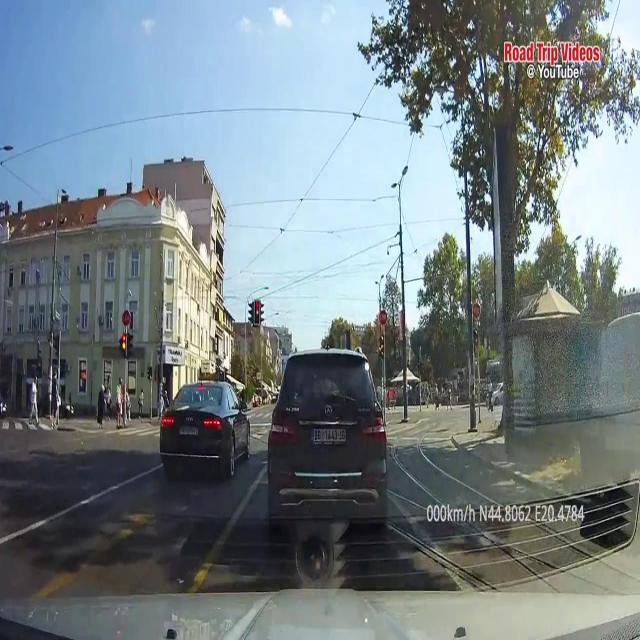License-plate: (309, 425, 348, 447), (179, 422, 199, 439)
